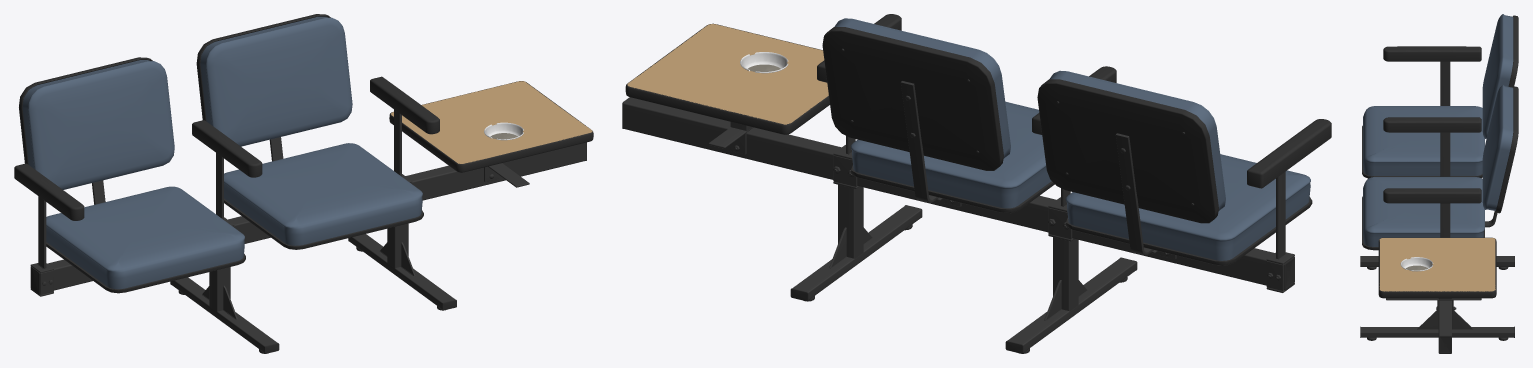
File: Kit_TandemBeam2Table.fbx
3 renders of one model, left to right at view 1: azimuth 30°, elevation 25°; view 2: azimuth 150°, elevation 25°; view 3: azimuth 270°, elevation 25°, orthographic. The views are drawn at different scales.
Parts seen in each view (by area): view 1: Kit_TandemBeam2Table_LOD0; view 2: Kit_TandemBeam2Table_LOD0; view 3: Kit_TandemBeam2Table_LOD0.
Boxes of the visible parts, box(x1,y1,x2,y2) form: Kit_TandemBeam2Table_LOD0: box(14, 14, 593, 353); Kit_TandemBeam2Table_LOD0: box(622, 14, 1331, 353); Kit_TandemBeam2Table_LOD0: box(1360, 14, 1518, 353).
Size of what is drawn, in the model's own units: 2 by 0.84 by 0.6144.
